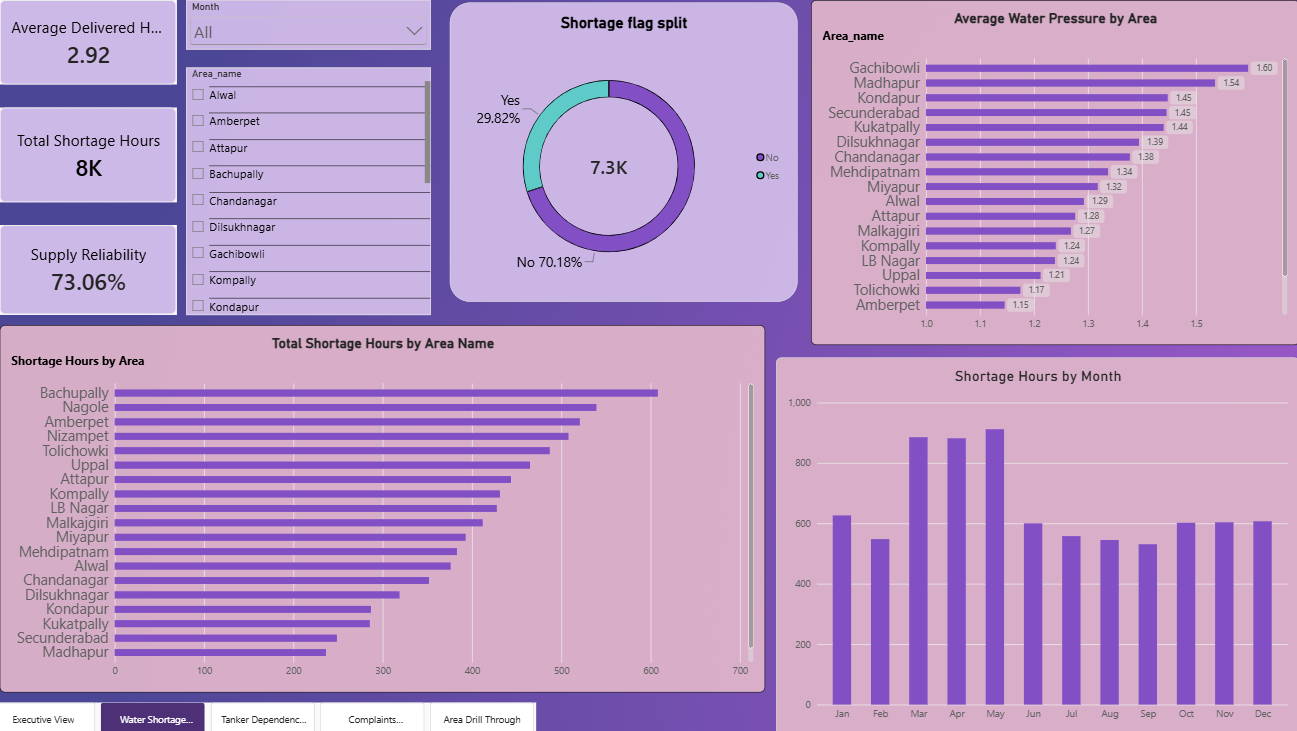

The dashboard page shown, as its layout file describes it:
{"tool":"powerbi","page":{"name":"Water Shortage Intelligence","canvas":[1920,1080],"ordinal":1},"visuals":[{"type":"clusteredBarChart","title":"Total Shortage Hours by Area Name","fields":{"Category":["aqua_watch areas.Area_name"],"Y":["aqua_watch supply_daily.Total Shortage Hours"]},"box":[13.3,476.3,1123.4,538.9],"z":0},{"type":"actionButton","box":[0,0,100,40],"z":1000},{"type":"cardVisual","fields":{"Data":["aqua_watch supply_daily.Total Shortage Hours"]},"box":[13.4,158.6,259.9,139.5],"z":2000},{"type":"cardVisual","fields":{"Data":["aqua_watch supply_daily.Average Delivered Hours"]},"box":[13.4,0,259.9,124.2],"z":3000},{"type":"cardVisual","fields":{"Data":["Date.Supply Realiability"]},"box":[13.4,330.6,259.9,131.8],"z":4000},{"type":"clusteredColumnChart","title":"Shortage Hours by Month","fields":{"Category":["Date.Month"],"Y":["Sum(aqua_watch supply_daily.Shortage_hours)"]},"box":[1152.2,525.5,768.2,554.1],"z":5000},{"type":"clusteredBarChart","title":" Average Water Pressure by Area","fields":{"Category":["aqua_watch areas.Area_name"],"Y":["Avg(aqua_watch supply_daily.Average_pressure_bar)"]},"box":[1203.8,0,716.6,506.4],"z":6000},{"type":"donutChart","title":"Shortage flag split","fields":{"Category":["aqua_watch supply_daily.Shortage_flag"],"Y":["CountNonNull(aqua_watch supply_daily.supply_record_id)"]},"box":[672.6,3.8,510.2,439.5],"z":7000},{"type":"slicer","fields":{"Values":["Date.Month"]},"box":[286.6,0,359.2,72.6],"z":8000},{"type":"slicer","fields":{"Values":["aqua_watch areas.Area_name"]},"box":[286.6,99.4,359.2,363.1],"z":9000},{"type":"pageNavigator","box":[0,1030.4,800,50],"z":10000}]}

Visuals, with their boxes in screenshot pixels (x1, y1, x2, y2), scaled from the page's 1920x1080 canvas onto the 1297x731 screenshot:
"Total Shortage Hours by Area Name" clusteredBarChart: pyautogui.locateOnScreen(9, 322, 768, 687)
actionButton: pyautogui.locateOnScreen(0, 0, 68, 27)
cardVisual - aqua_watch supply_daily.Total Shortage Hours: pyautogui.locateOnScreen(9, 107, 185, 202)
cardVisual - aqua_watch supply_daily.Average Delivered Hours: pyautogui.locateOnScreen(9, 0, 185, 84)
cardVisual - Date.Supply Realiability: pyautogui.locateOnScreen(9, 224, 185, 313)
"Shortage Hours by Month" clusteredColumnChart: pyautogui.locateOnScreen(778, 356, 1296, 730)
" Average Water Pressure by Area" clusteredBarChart: pyautogui.locateOnScreen(813, 0, 1296, 343)
"Shortage flag split" donutChart: pyautogui.locateOnScreen(454, 3, 799, 300)
slicer - Date.Month: pyautogui.locateOnScreen(194, 0, 436, 49)
slicer - aqua_watch areas.Area_name: pyautogui.locateOnScreen(194, 67, 436, 313)
pageNavigator: pyautogui.locateOnScreen(0, 697, 540, 730)
